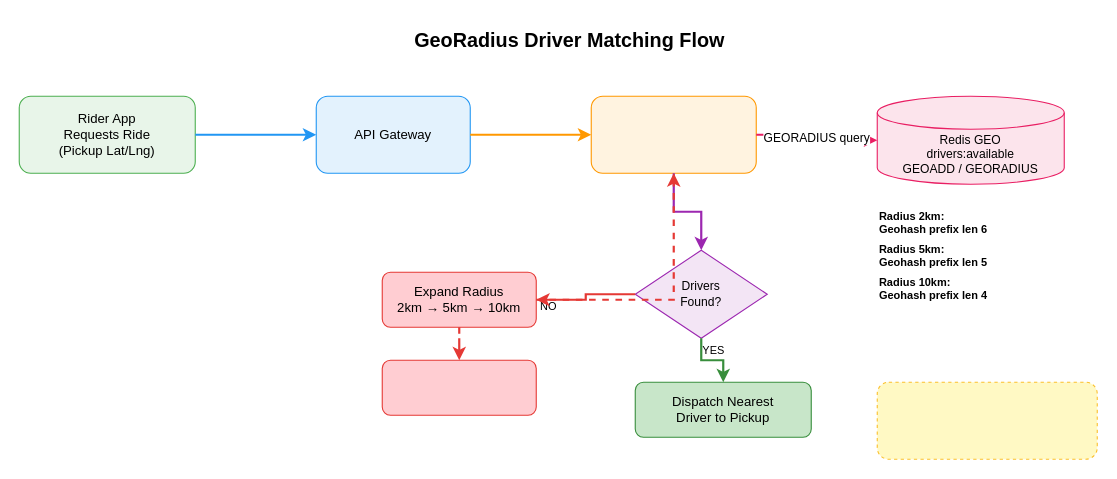
The diagram is 1117 pixels wide and 479 high, and some of its shapes have lost their labels. The centre of each missing label's shape, as x and y in pixels:
"Driver Service (Matching Logic)" belongs at point (673, 134).
"Geohash Encoding: Pickup (19.078, 72.878) → te7u1qj Scan buckets matching prefix" belongs at point (986, 420).
"No Drivers → 'No cabs available'" belongs at point (458, 387).
